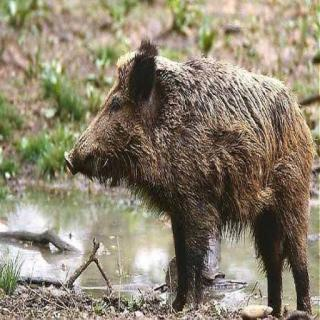Pig: (43, 25, 312, 315)
